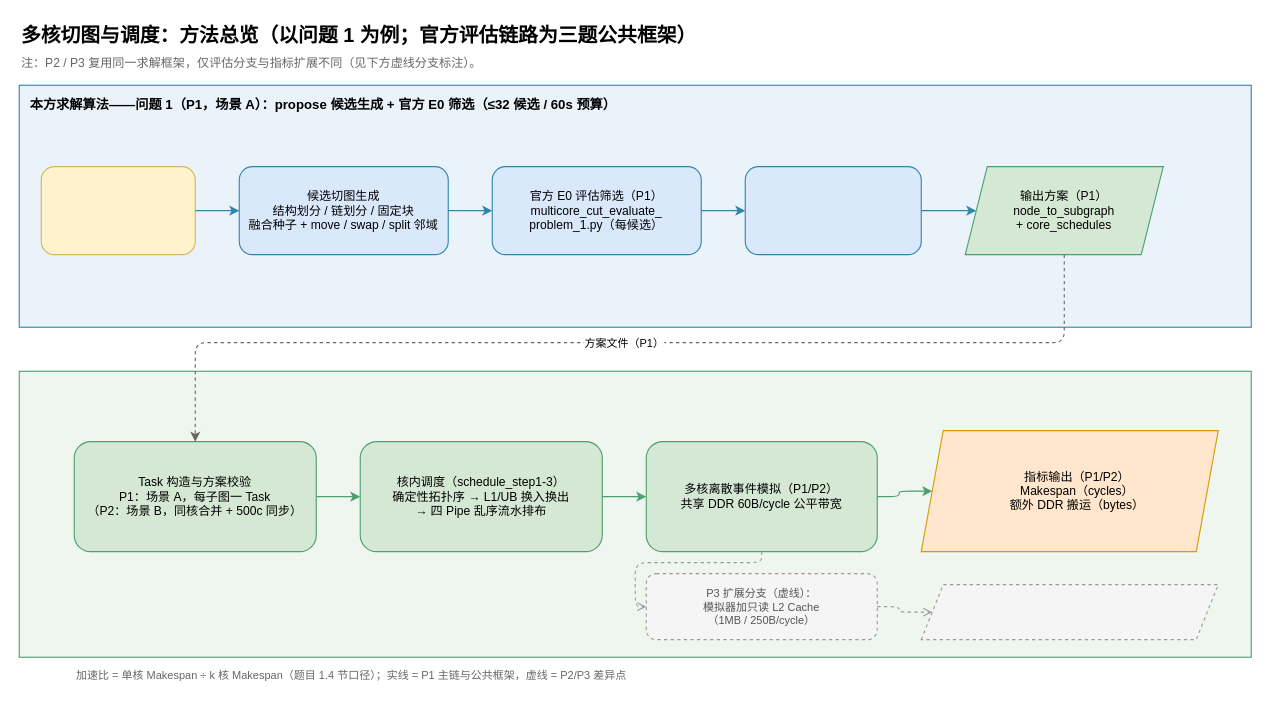
This 1271x702 diagram has some shape labels left out. The box of each missing label's shape, as (x1, y1, x2, y2) in pixels:
incumbent 最优切图 （Makespan 最小候选）: (744, 166, 921, 255)
P3 追加指标（虚线）： Cache 命中率（按字节）: (920, 584, 1218, 640)
官方评估程序（题给、冻结、逐字节未修改）——三题公共链路，P1/P2/P3 差异以虚线分支标注: (18, 370, 1251, 657)
输入 计算图 JSON （ops / tensors / edges）: (40, 166, 195, 255)
